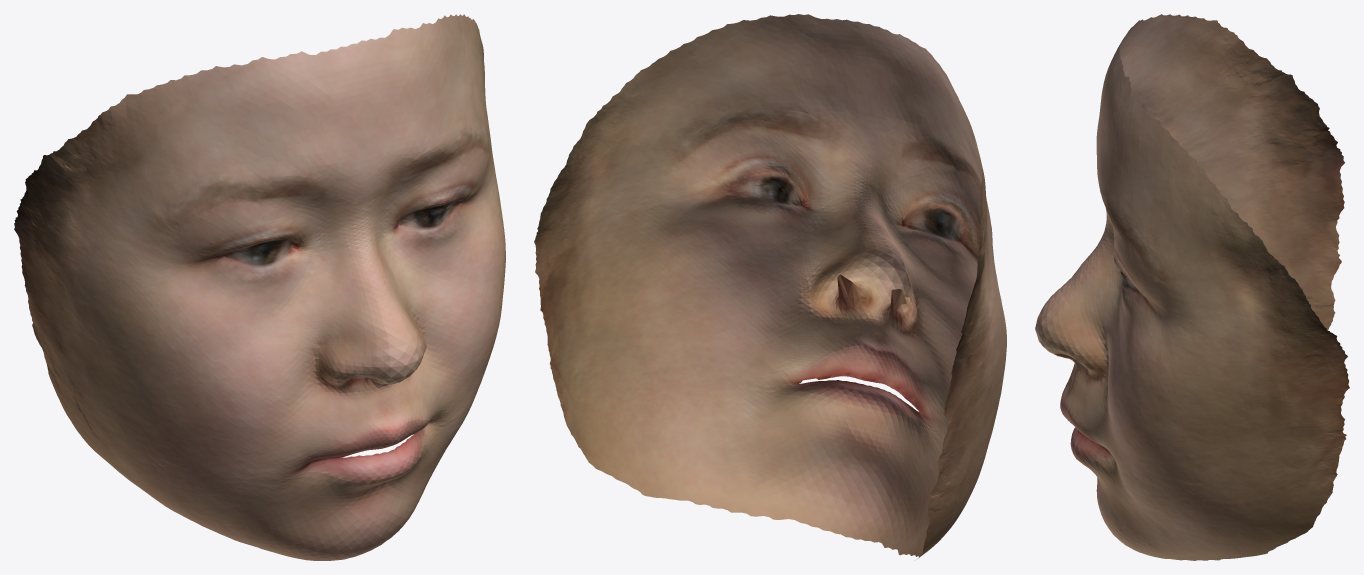
File: predicted_face.obj
3 renders of one model, left to right at view 1: azimuth 30°, elevation 25°; view 2: azimuth 150°, elevation 25°; view 3: azimuth 270°, elevation 25°, orthographic. The views are drawn at different scales.
Size of the model in its own units: 1.98 by 2.25 by 1.31.
